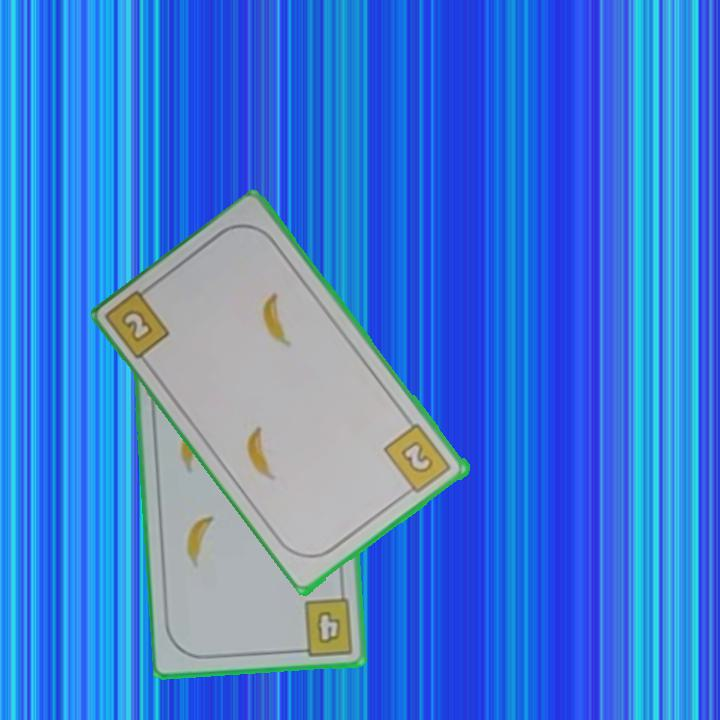2b: (381, 420, 455, 500), (105, 281, 174, 363)
4b: (293, 595, 357, 659)
